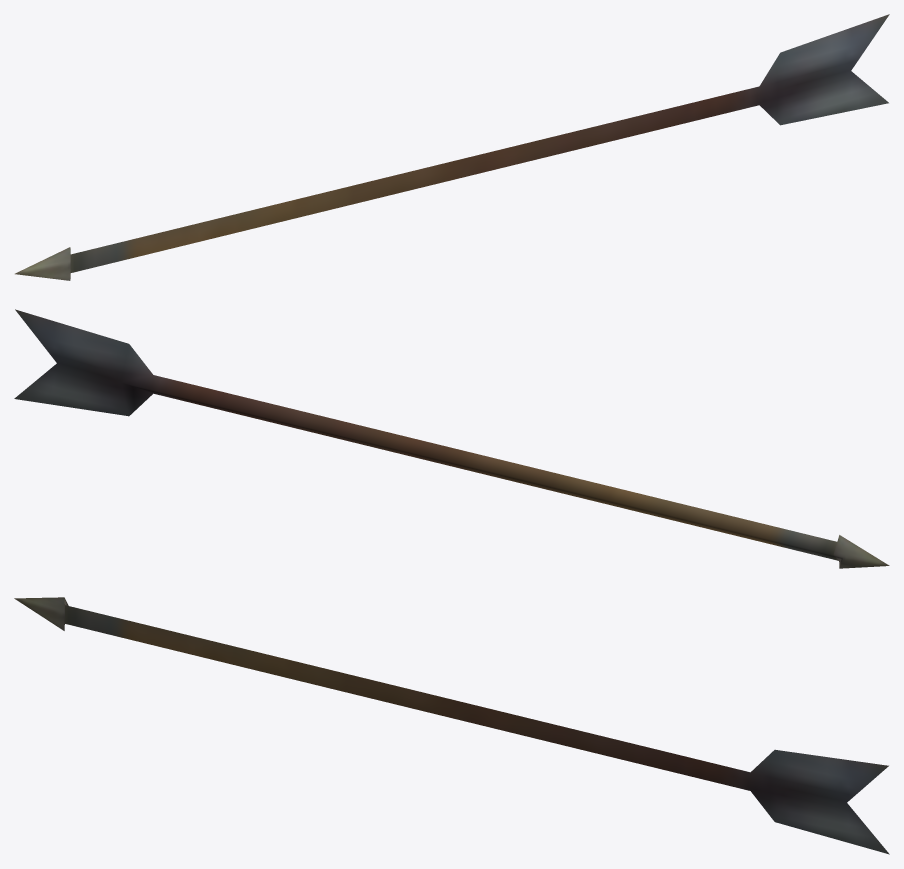
The model's file is noviceArrow.glb.
3 renders of one model, top to bottom at view 1: azimuth 30°, elevation 25°; view 2: azimuth 150°, elevation 25°; view 3: azimuth 330°, elevation 25°, orthographic.
Parts seen in each view (by area): view 1: noviceArrow; view 2: noviceArrow; view 3: noviceArrow.
Part boxes in pixels (<box>): noviceArrow: <box>15,14,889,280</box>; noviceArrow: <box>14,309,889,568</box>; noviceArrow: <box>14,597,889,854</box>.
Bounding box in the file's own units: 0.9365 × 0.0914 × 0.0105.
1 material, 1 textured.
